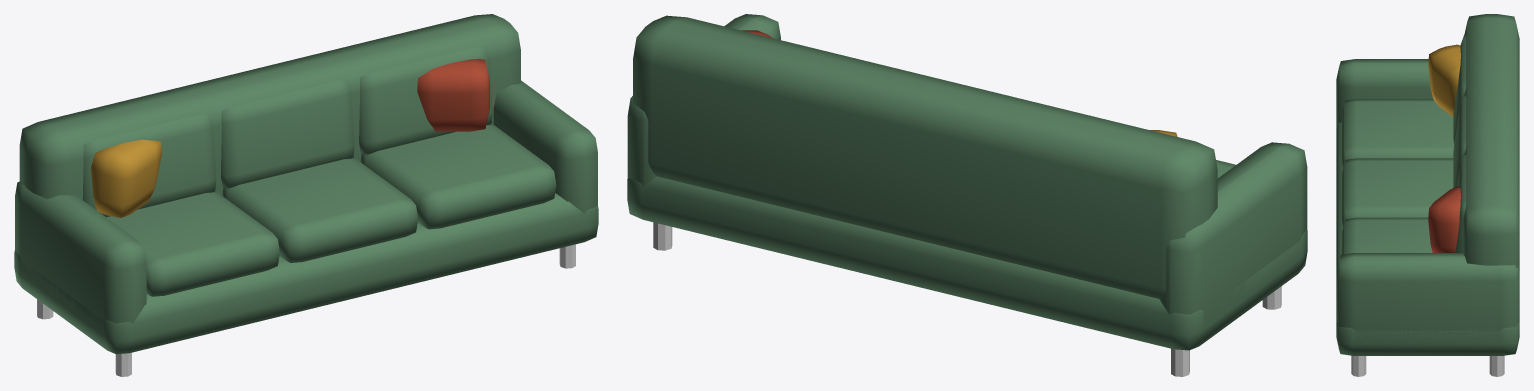
The model's file is sofa3-green.glb.
The picture shows the model from 3 angles, left to right: view 1: azimuth 30°, elevation 25°; view 2: azimuth 150°, elevation 25°; view 3: azimuth 270°, elevation 25°; orthographic projection. The views are drawn at different scales.
Parts seen in each view (by area): view 1: sofa3-green; view 2: sofa3-green; view 3: sofa3-green.
Boxes of the visible parts, <box> form: sofa3-green: <box>14,14,598,376</box>; sofa3-green: <box>627,14,1307,376</box>; sofa3-green: <box>1336,14,1519,376</box>.
Bounding box in the file's own units: 3.05 × 1.13 × 1.13.
